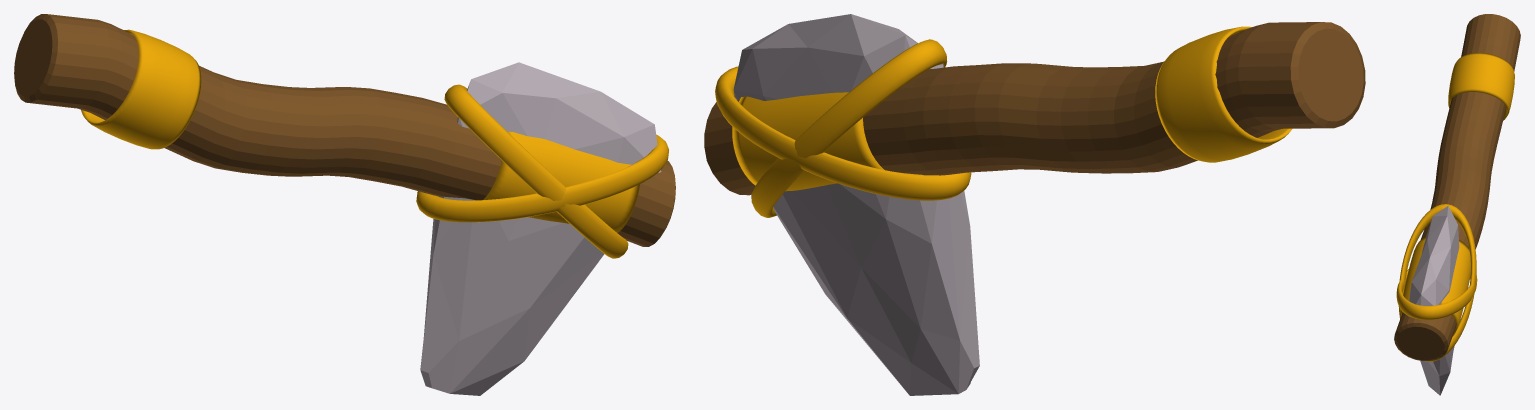
The model's file is axe.fbx.
3 renders of one model, left to right at view 1: azimuth 30°, elevation 25°; view 2: azimuth 150°, elevation 25°; view 3: azimuth 270°, elevation 25°, orthographic. The views are drawn at different scales.
Visible parts, largest first — view 1: Cylinder.012, Icosphere.055, BezierCircle.025, BezierCircle.026, BezierCircle.027, BezierCircle.024; view 2: Cylinder.012, Icosphere.055, BezierCircle.025, BezierCircle.026, BezierCircle.027, BezierCircle.024; view 3: Cylinder.012, Icosphere.055, BezierCircle.025, BezierCircle.027, BezierCircle.024, BezierCircle.026.
Boxes of the visible parts, box(x1,y1,x2,y2) form: Cylinder.012: box(14, 14, 675, 246); Icosphere.055: box(420, 62, 661, 395); BezierCircle.025: box(81, 29, 201, 149); BezierCircle.026: box(416, 134, 668, 222); BezierCircle.027: box(444, 84, 628, 258); BezierCircle.024: box(483, 131, 639, 232); Cylinder.012: box(704, 22, 1365, 195); Icosphere.055: box(733, 14, 979, 395); BezierCircle.025: box(1155, 26, 1292, 162); BezierCircle.026: box(715, 66, 971, 200); BezierCircle.027: box(751, 39, 947, 217); BezierCircle.024: box(732, 92, 884, 191); Cylinder.012: box(1394, 14, 1520, 360); Icosphere.055: box(1408, 206, 1459, 395); BezierCircle.025: box(1448, 53, 1514, 120); BezierCircle.027: box(1398, 204, 1476, 361); BezierCircle.024: box(1400, 237, 1470, 335); BezierCircle.026: box(1396, 269, 1477, 319).
Size of the model in its own units: 117 by 83.36 by 35.79.
